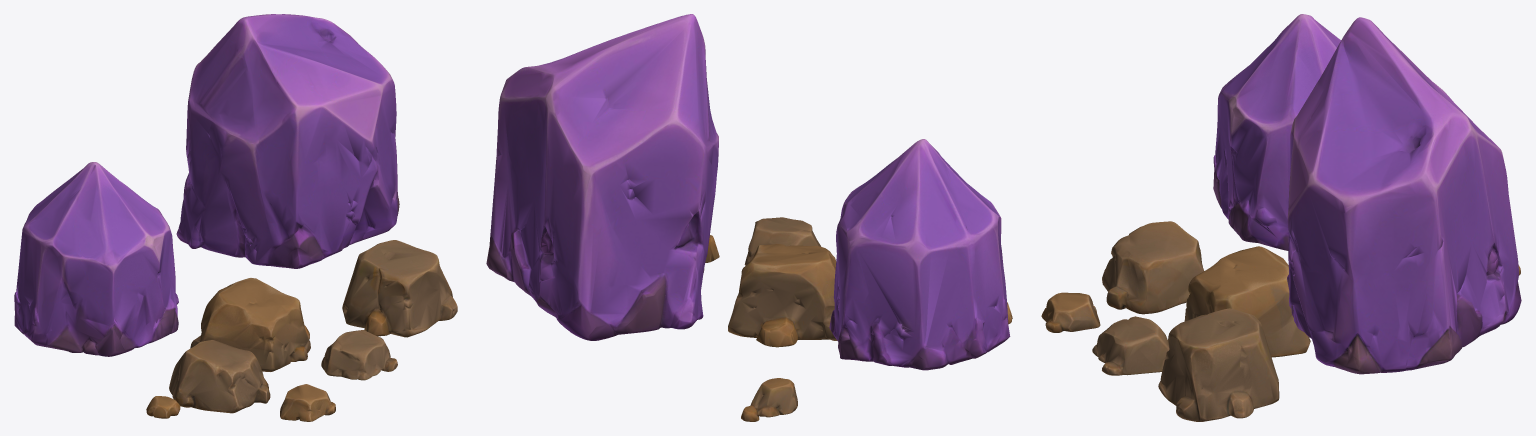
The model's file is cristal_purpura.glb.
3 renders of one model, left to right at view 1: azimuth 30°, elevation 25°; view 2: azimuth 150°, elevation 25°; view 3: azimuth 270°, elevation 25°, orthographic. The views are drawn at different scales.
Visible parts, largest first — view 1: cristal_purpura; view 2: cristal_purpura; view 3: cristal_purpura.
Part boxes in pixels (<box>): cristal_purpura: <box>14,14,457,421</box>; cristal_purpura: <box>486,14,1012,421</box>; cristal_purpura: <box>1041,14,1521,421</box>.
Size of what is drawn, in the model's own units: 1.44 by 1 by 1.27.
Materials: 1 (1 with a texture image).
